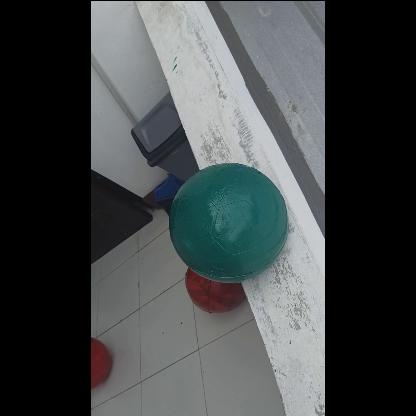green_ball: (166, 162, 288, 282)
